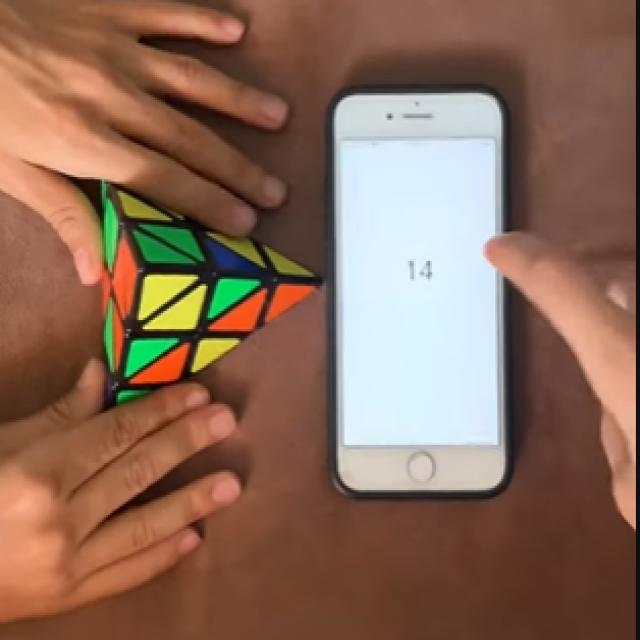Pyraminx: (104, 182, 320, 404)
